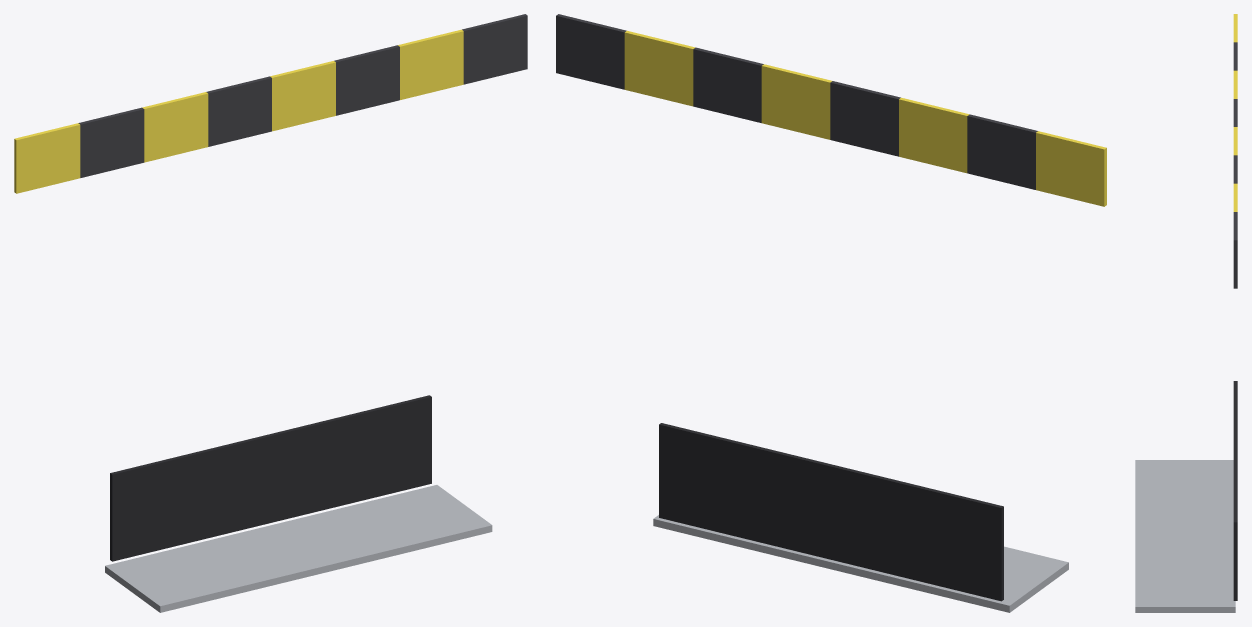
File: research_server_master_overlays.glb
3 views of the same model, side by side, from view 1: azimuth 30°, elevation 25°; view 2: azimuth 150°, elevation 25°; view 3: azimuth 270°, elevation 25° (orthographic). The views are drawn at different scales.
Parts seen in each view (by area): view 1: HDD_Panel_Open, Objective_Stripes; view 2: HDD_Panel_Open, Objective_Stripes; view 3: HDD_Panel_Open, Objective_Stripes.
Part boxes in pixels (bbox=[...]): HDD_Panel_Open: bbox=[105, 395, 492, 612]; Objective_Stripes: bbox=[14, 14, 527, 193]; HDD_Panel_Open: bbox=[653, 423, 1068, 612]; Objective_Stripes: bbox=[556, 14, 1106, 206]; HDD_Panel_Open: bbox=[1135, 381, 1237, 612]; Objective_Stripes: bbox=[1233, 14, 1237, 288].
Size of the model in its own units: 1.6 by 1.36 by 0.306.
